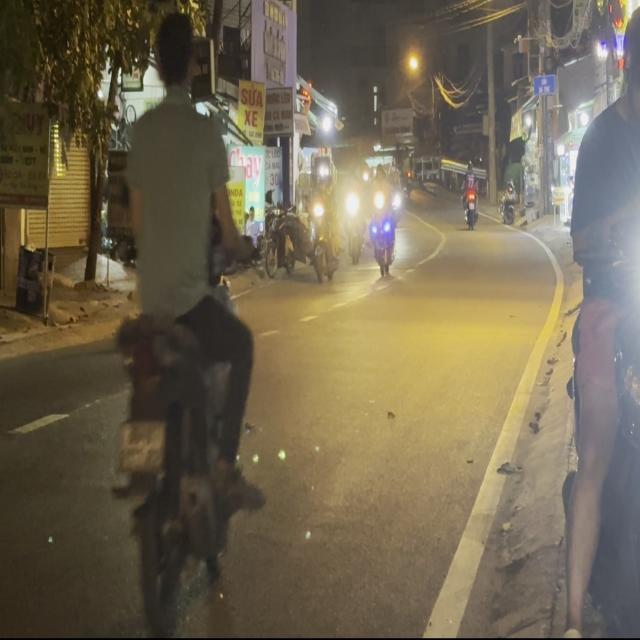licenseplate: (102, 4, 262, 634)
motorcyclist: (151, 9, 196, 96)
nohelmet: (117, 419, 164, 471)
